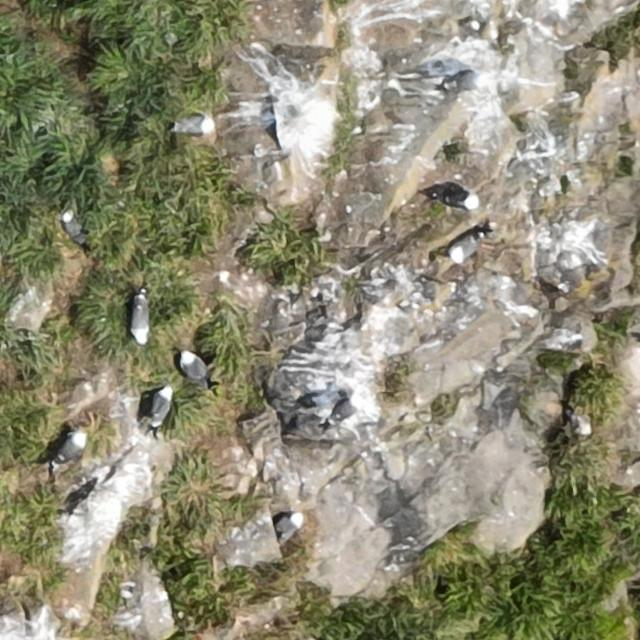umineko: (57, 432, 84, 462), (450, 233, 480, 260), (182, 352, 208, 383), (130, 299, 148, 341), (152, 386, 172, 423), (176, 116, 212, 135), (439, 190, 475, 209), (442, 72, 479, 90), (62, 213, 82, 243), (278, 513, 302, 538), (573, 411, 592, 434)
